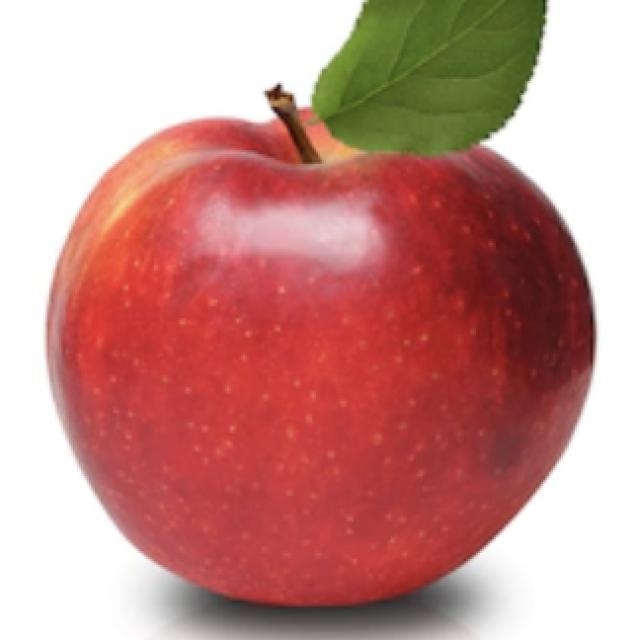Fresh Apple: (62, 123, 598, 620)
